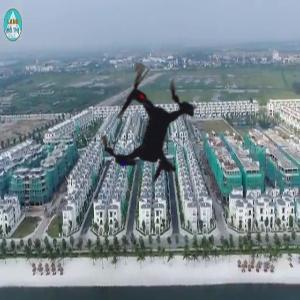drone: (57, 37, 239, 219)
